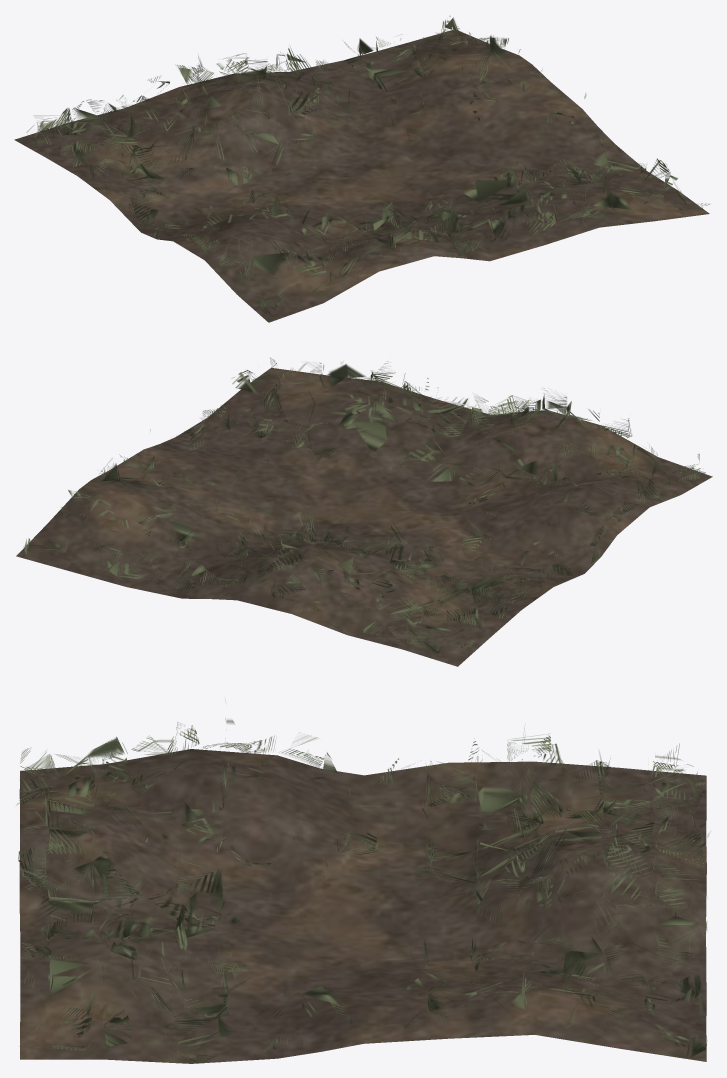
File: mud_grassland.glb
The picture shows the model from 3 angles, top to bottom: view 1: azimuth 30°, elevation 25°; view 2: azimuth 150°, elevation 25°; view 3: azimuth 270°, elevation 25°; orthographic projection. The views are drawn at different scales.
Visible parts, largest first — view 1: body; view 2: body; view 3: body.
Part boxes in pixels (x1,y1,x2,y2): body: (14, 15, 709, 322); body: (16, 357, 712, 666); body: (16, 718, 710, 1063).
Bounding box in the file's own units: 7.66 × 1.17 × 7.7.
2 materials, 2 textured.
